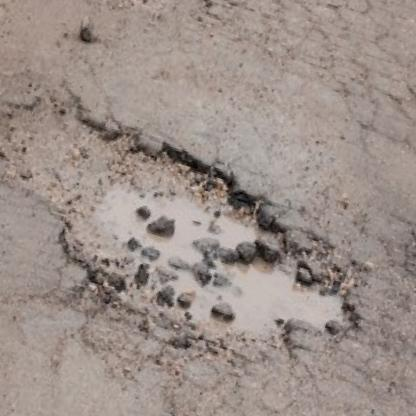pothole: (0, 117, 365, 368), (90, 0, 232, 41)
